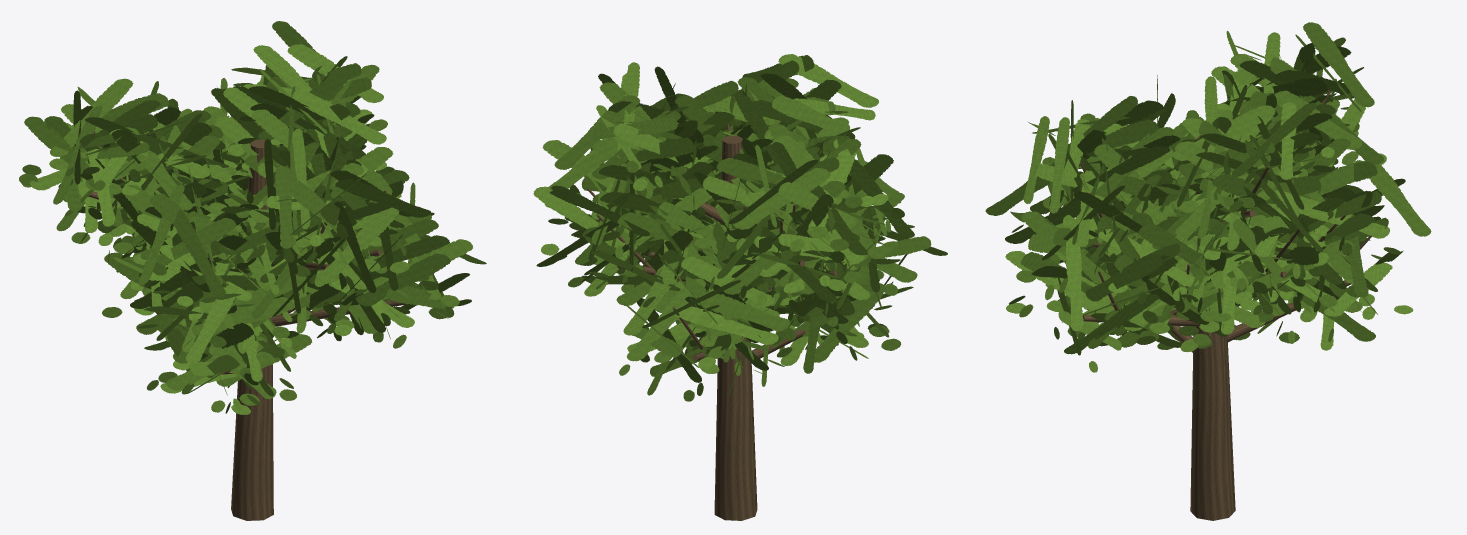
3 renders of one model, left to right at view 1: azimuth 30°, elevation 25°; view 2: azimuth 150°, elevation 25°; view 3: azimuth 270°, elevation 25°, orthographic.
Visible parts, largest first — view 1: oak-leaf, oak-bark; view 2: oak-leaf, oak-bark; view 3: oak-leaf, oak-bark.
Boxes of the visible parts, x1,y1,x2,y2 form: oak-leaf: (19,21,486,414); oak-bark: (88,131,408,520); oak-leaf: (533,54,947,401); oak-bark: (587,118,841,520); oak-leaf: (985,22,1431,372); oak-bark: (1080,90,1371,520).
Size of the model in its own units: 7.75 by 9.31 by 8.73.
2 materials, 2 textured.
